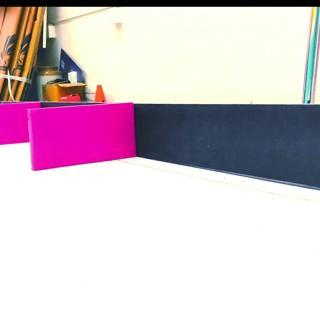xparking: (29, 106, 136, 159)
